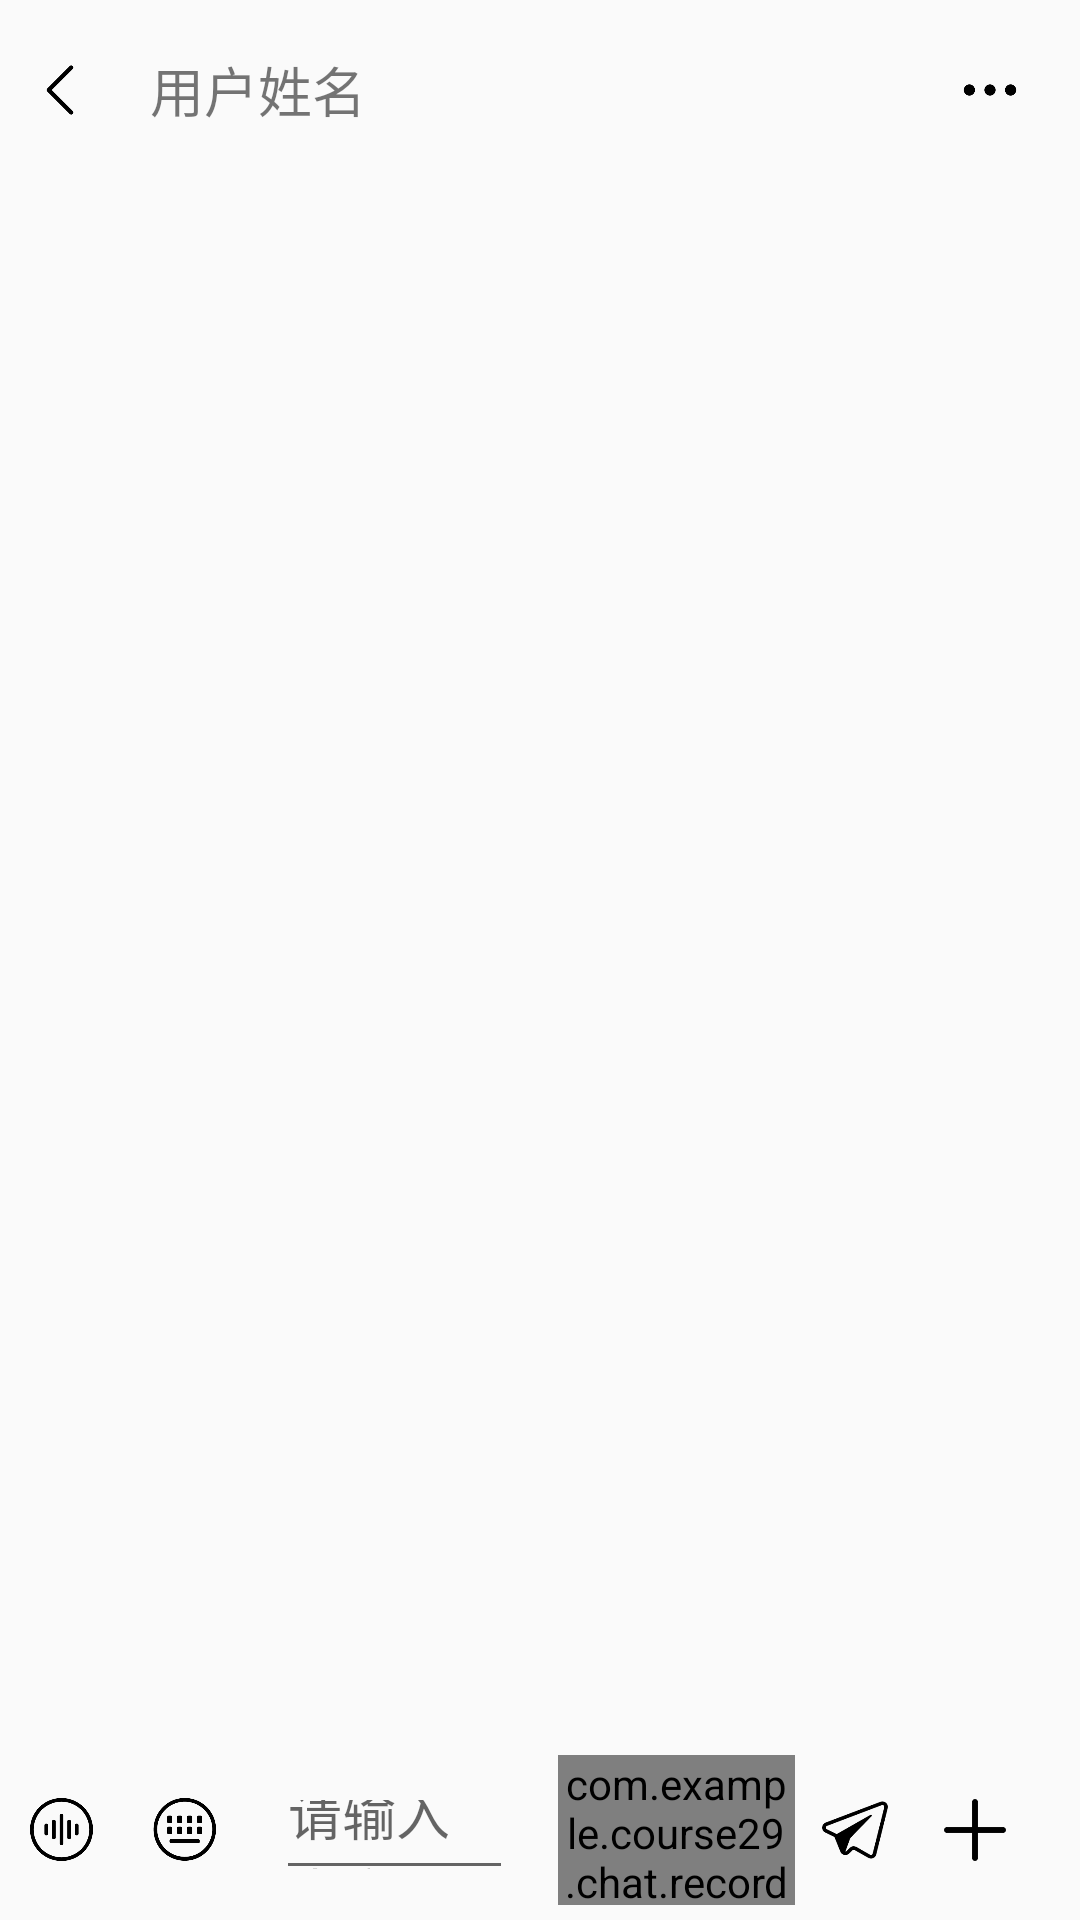

Icons on this 1080*1920 Android screen, each with its box as (x1, y1, x2, y2):
add: (944, 1799, 1006, 1861)
arrow left: (46, 65, 74, 115)
keyboard: (153, 1798, 216, 1861)
more: (964, 84, 1016, 96)
send: (822, 1801, 888, 1859)
talk: (30, 1798, 93, 1861)
